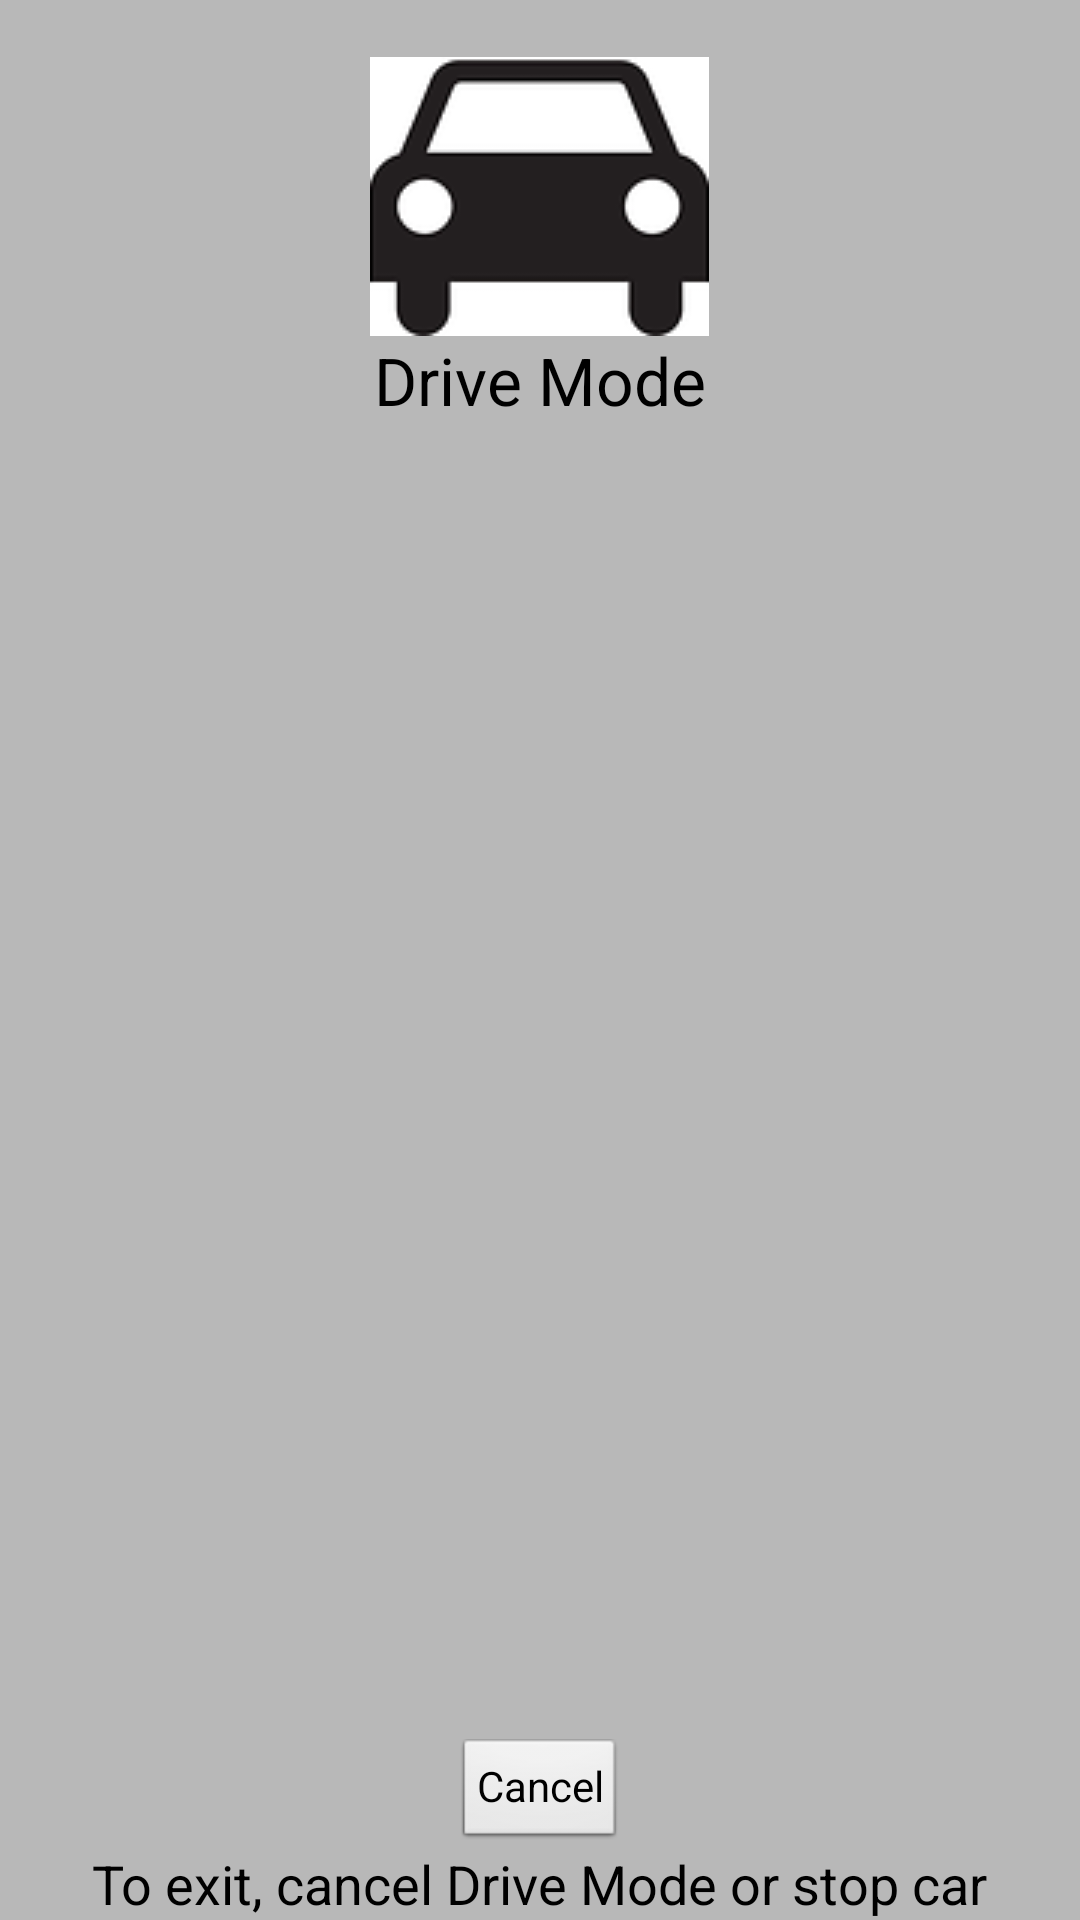

Icons on this 1080px×1920px Android screen, each with the point to tap as [x,y]:
car: [539,196]
